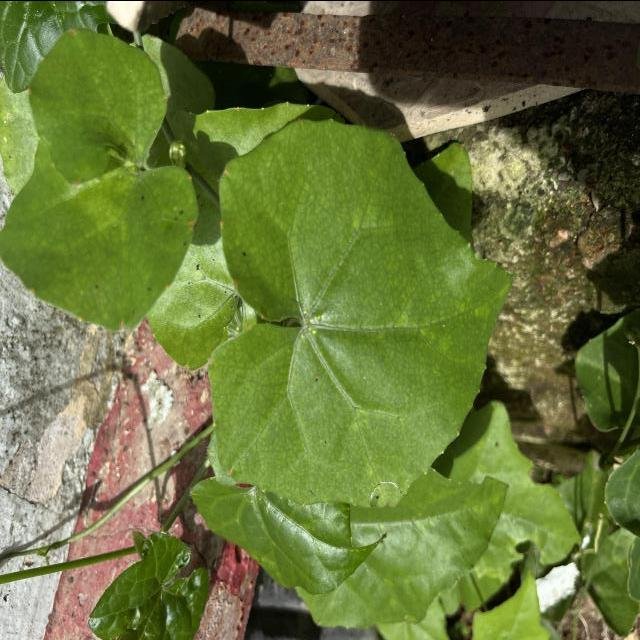Coccinia grandis: (202, 112, 519, 515)
